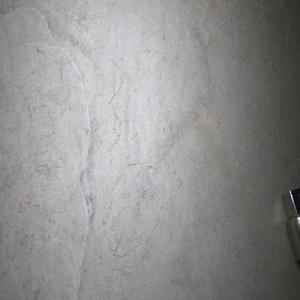MetalPart: (280, 185, 300, 260)
